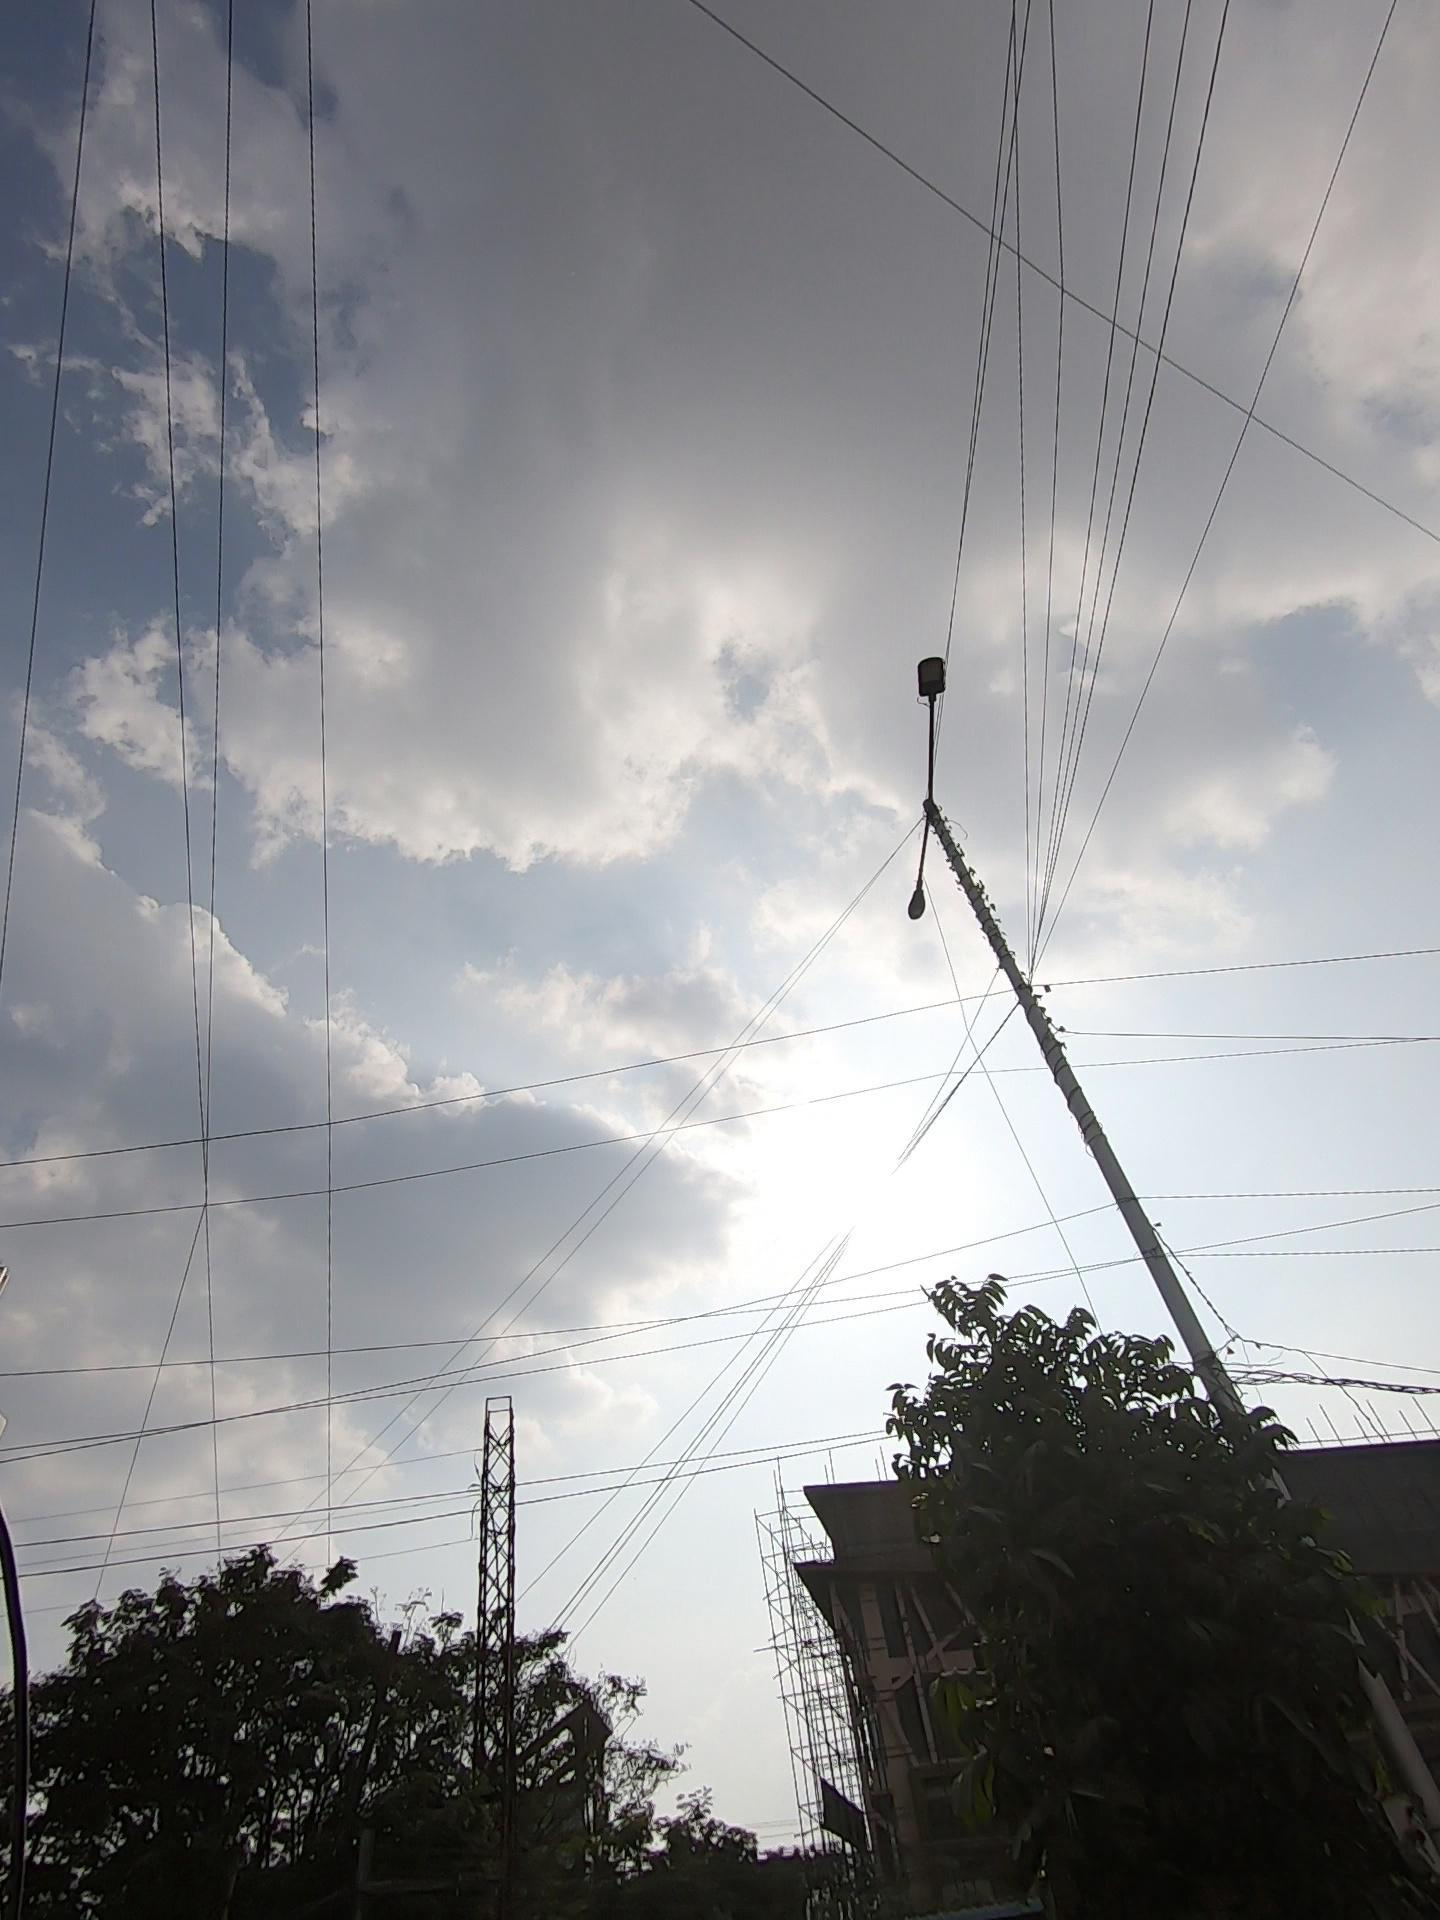off: (800, 587, 1035, 968)
